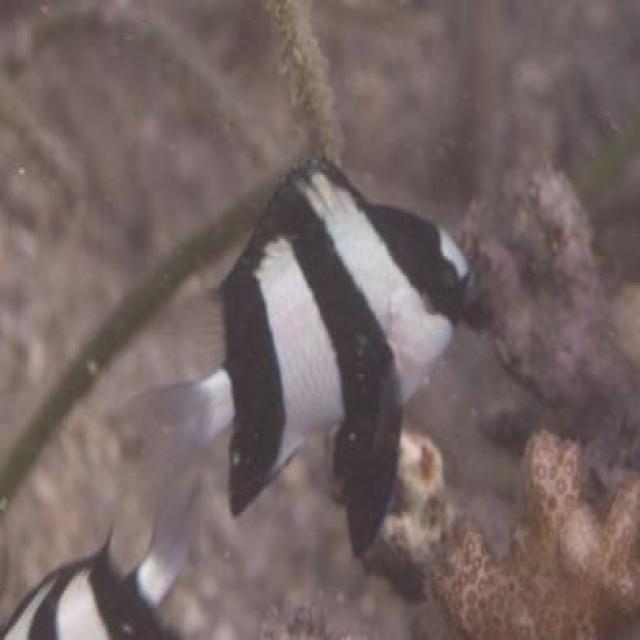Three_striped DasmselFish: (133, 147, 467, 553), (4, 498, 205, 640)
